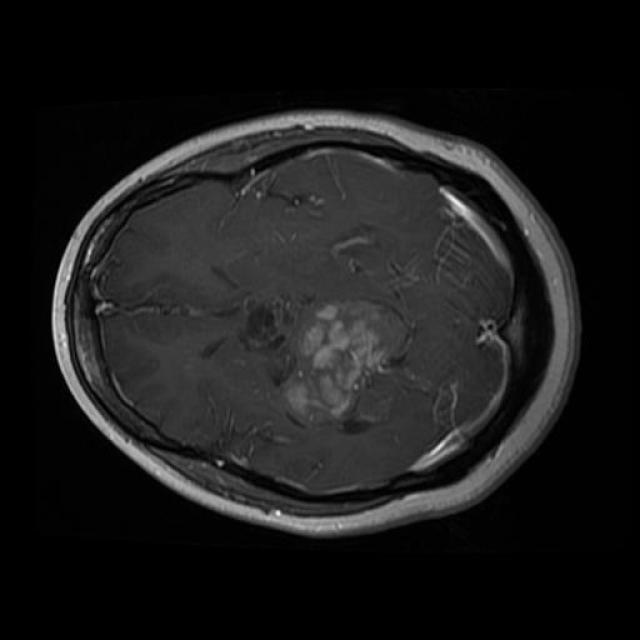Glioma: (280, 301, 409, 422)
